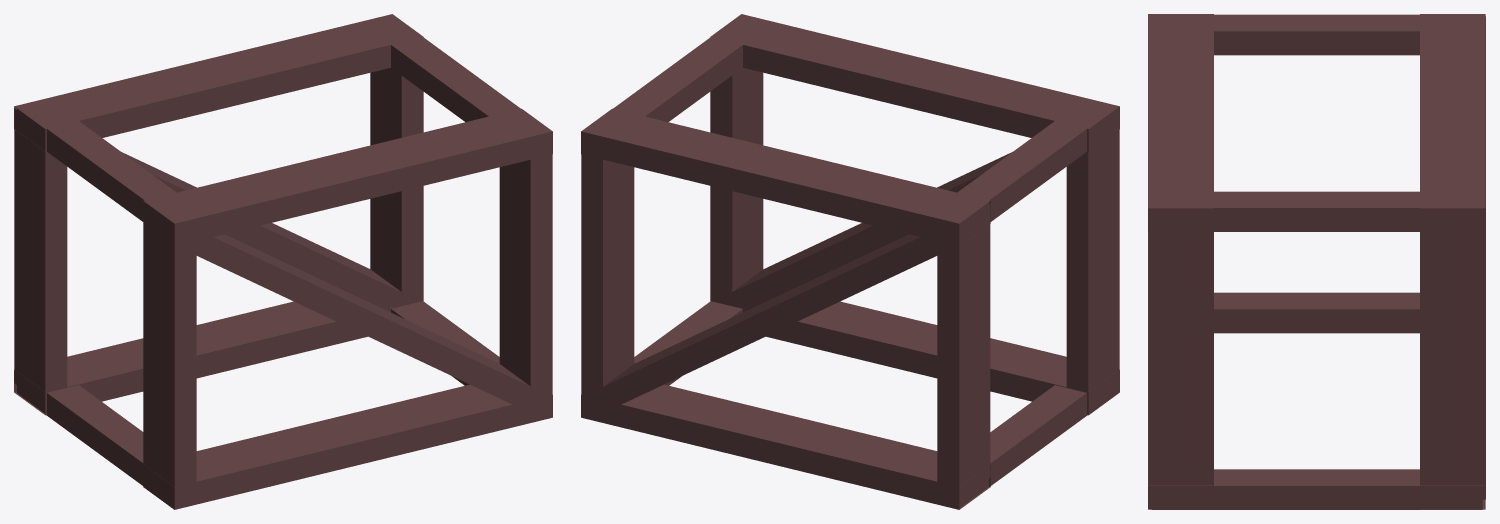
The model's file is Bridge Fondation Bottom Buffer.fbx.
The picture shows the model from 3 angles, left to right: view 1: azimuth 30°, elevation 25°; view 2: azimuth 150°, elevation 25°; view 3: azimuth 270°, elevation 25°; orthographic projection. The views are drawn at different scales.
Visible parts, largest first — view 1: Road Bottom buffer.001; view 2: Road Bottom buffer.001; view 3: Road Bottom buffer.001.
Boxes of the visible parts, box(x1,y1,x2,y2) form: Road Bottom buffer.001: box(14, 14, 552, 509); Road Bottom buffer.001: box(581, 14, 1119, 509); Road Bottom buffer.001: box(1148, 14, 1485, 509).
Size of the model in its own units: 371 by 269 by 273.
